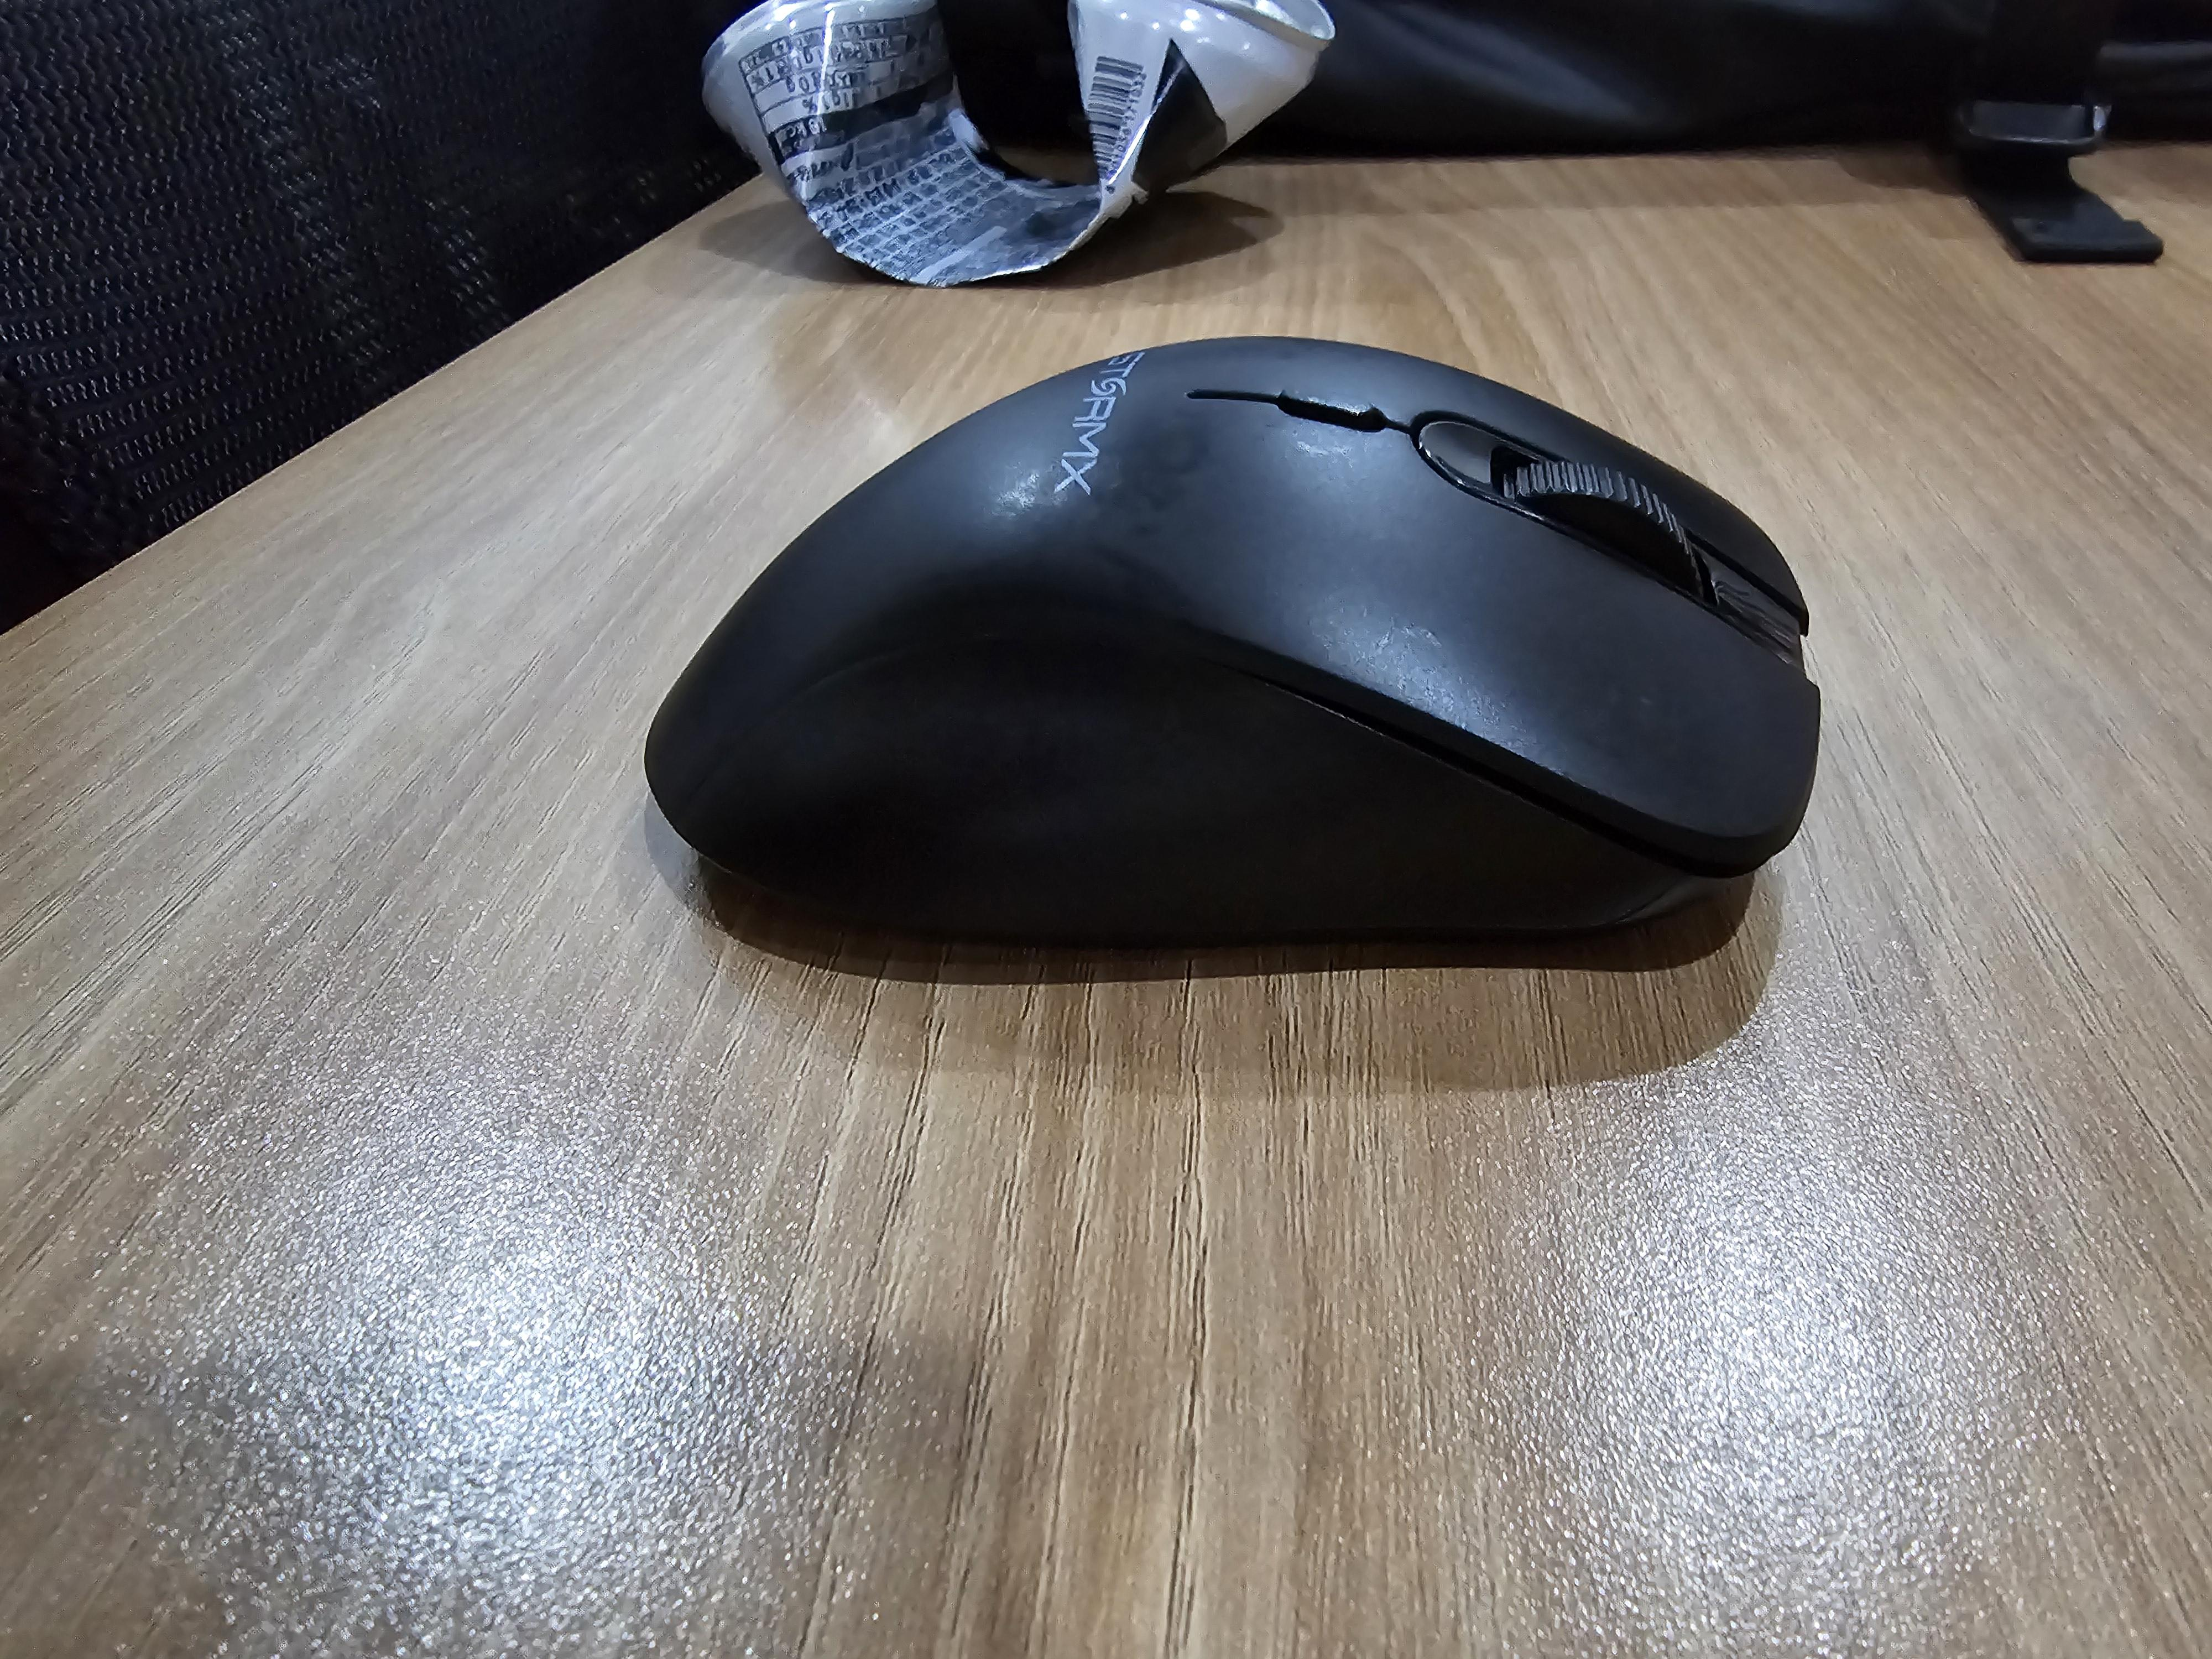mouse: (641, 331, 1822, 948)
